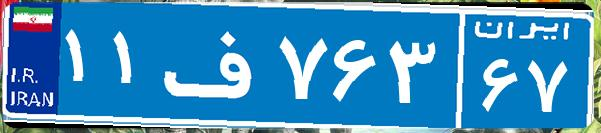1: (57, 26, 110, 107), (110, 28, 158, 105)
3: (385, 28, 445, 110)
6: (330, 28, 385, 110), (475, 38, 525, 113)
7: (273, 28, 330, 110), (525, 38, 570, 115)
ف: (158, 15, 273, 115)
